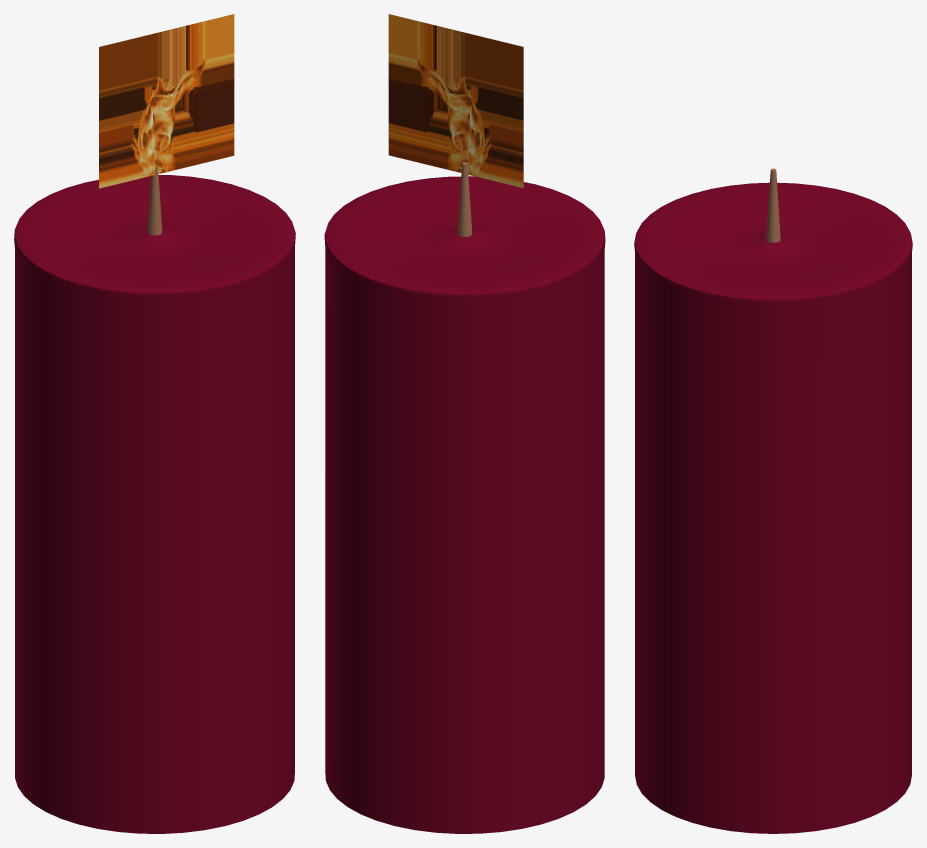
Rendered from fbxCandle.fbx.
3 views of the same model, side by side, from view 1: azimuth 30°, elevation 25°; view 2: azimuth 150°, elevation 25°; view 3: azimuth 270°, elevation 25° (orthographic).
Visible parts, largest first — view 1: candle1, fire; view 2: candle1, fire; view 3: candle1.
Boxes of the visible parts, x1=… form: candle1: x1=14, y1=163, x2=295, y2=833; fire: x1=99, y1=14, x2=234, y2=188; candle1: x1=324, y1=162, x2=605, y2=833; fire: x1=388, y1=14, x2=523, y2=188; candle1: x1=634, y1=168, x2=912, y2=833.
Bounding box in the file's own units: 2.01 × 5.85 × 2.01.
3 materials, 3 textured.
